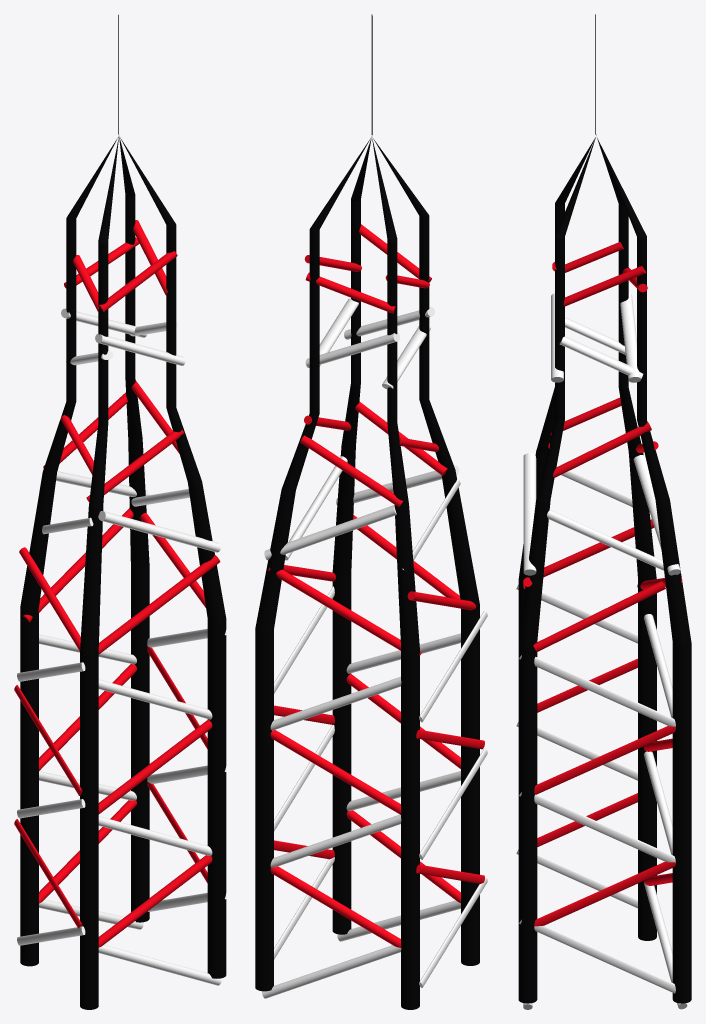
File: short_radio_mast_2.fbx
The picture shows the model from 3 angles, left to right: view 1: azimuth 30°, elevation 25°; view 2: azimuth 150°, elevation 25°; view 3: azimuth 270°, elevation 25°; orthographic projection.
Visible parts, largest first — view 1: Cylinder.003; view 2: Cylinder.003; view 3: Cylinder.003.
Boxes of the visible parts, x1=… form: Cylinder.003: x1=14, y1=14, x2=226, y2=1009; Cylinder.003: x1=255, y1=14, x2=487, y2=1009; Cylinder.003: x1=516, y1=14, x2=691, y2=1009.
Size of the model in its own units: 45.89 by 284 by 46.72.
